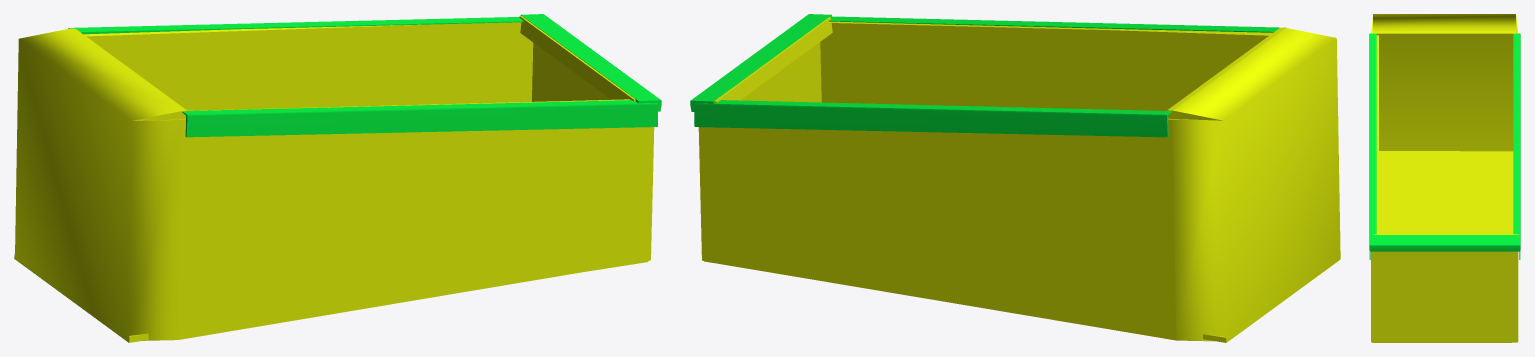
Rendered from Cabinet_Box.fbx.
3 views of the same model, side by side, from view 1: azimuth 30°, elevation 25°; view 2: azimuth 150°, elevation 25°; view 3: azimuth 270°, elevation 25° (orthographic). The views are drawn at different scales.
Parts seen in each view (by area): view 1: Cabinet_Box; view 2: Cabinet_Box; view 3: Cabinet_Box.
Boxes of the visible parts, x1,y1,x2,y2 form: Cabinet_Box: (14, 14, 661, 342); Cabinet_Box: (690, 14, 1340, 342); Cabinet_Box: (1369, 14, 1520, 342).
Bounding box in the file's own units: 4.44 × 2.12 × 1.72.
